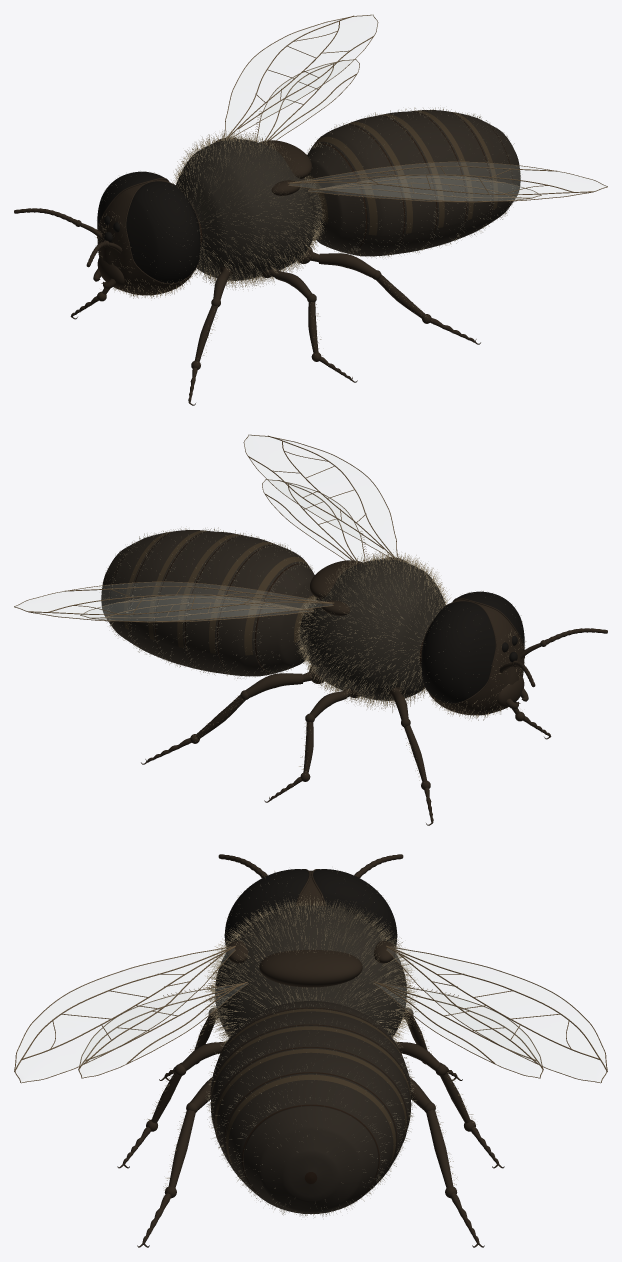
Rendered from bee-fine-cerana-drone.glb.
The picture shows the model from 3 angles, top to bottom: view 1: azimuth 30°, elevation 25°; view 2: azimuth 150°, elevation 25°; view 3: azimuth 270°, elevation 25°; orthographic projection. The views are drawn at different scales.
Parts seen in each view (by area): view 1: Thorax | continuous mesosoma.001, Forewing_1_membrane.001, Forewing_-1_membrane.001, Compound_eye_-1.001, Thoracic dense coat.001, Abdomen | tergite 2.001, Abdomen | tergite 3.001, Abdomen | tergite 4.001, Abdomen | tergite 1.001, Abdomen | tergite 5.001, Head | sculpted capsule.001, Abdomen | tergite 6.001 (+10 smaller); view 2: Thorax | continuous mesosoma.001, Forewing_-1_membrane.001, Forewing_1_membrane.001, Compound_eye_1.001, Thoracic dense coat.001, Abdomen | tergite 2.001, Abdomen | tergite 3.001, Abdomen | tergite 4.001, Abdomen | tergite 1.001, Abdomen | tergite 5.001, Head | sculpted capsule.001, Abdomen | tergite 6.001 (+10 smaller); view 3: Thorax | continuous mesosoma.001, Forewing_-1_membrane.001, Forewing_1_membrane.001, Abdomen | tergite 7.001, Abdomen | tergite 6.001, Thoracic dense coat.001, Abdomen | tergite 5.001, Abdomen | tergite 4.001, Abdomen | tergite 3.001, Scutellum.001, Compound_eye_1.001, Compound_eye_-1.001 (+9 smaller).
Part boxes in pixels (<box>): Thorax | continuous mesosoma.001: <box>176,139,322,280</box>; Forewing_1_membrane.001: <box>226,15,376,133</box>; Forewing_-1_membrane.001: <box>290,162,606,200</box>; Compound_eye_-1.001: <box>126,181,200,283</box>; Thoracic dense coat.001: <box>171,130,326,289</box>; Abdomen | tergite 2.001: <box>311,124,405,253</box>; Abdomen | tergite 3.001: <box>344,115,437,254</box>; Abdomen | tergite 4.001: <box>378,111,467,249</box>; Abdomen | tergite 1.001: <box>306,143,367,252</box>; Abdomen | tergite 5.001: <box>412,110,492,239</box>; Head | sculpted capsule.001: <box>97,179,192,295</box>; Abdomen | tergite 6.001: <box>449,111,513,226</box>; Thorax | continuous mesosoma.001: <box>299,559,445,700</box>; Forewing_-1_membrane.001: <box>245,435,395,554</box>; Forewing_1_membrane.001: <box>15,582,331,620</box>; Compound_eye_1.001: <box>421,601,495,703</box>; Thoracic dense coat.001: <box>295,551,450,712</box>; Abdomen | tergite 2.001: <box>216,544,310,673</box>; Abdomen | tergite 3.001: <box>184,535,277,674</box>; Abdomen | tergite 4.001: <box>154,531,243,669</box>; Abdomen | tergite 1.001: <box>254,563,316,672</box>; Abdomen | tergite 5.001: <box>129,530,209,659</box>; Head | sculpted capsule.001: <box>429,599,524,715</box>; Abdomen | tergite 6.001: <box>108,531,173,646</box>; Thorax | continuous mesosoma.001: <box>215,905,406,1037</box>; Forewing_-1_membrane.001: <box>16,947,234,1081</box>; Forewing_1_membrane.001: <box>387,947,605,1081</box>; Abdomen | tergite 7.001: <box>243,1105,378,1199</box>; Abdomen | tergite 6.001: <box>225,1073,396,1205</box>; Thoracic dense coat.001: <box>203,893,420,1044</box>; Abdomen | tergite 5.001: <box>214,1047,407,1165</box>; Abdomen | tergite 4.001: <box>210,1025,411,1137</box>; Abdomen | tergite 3.001: <box>210,1008,411,1099</box>; Scutellum.001: <box>259,950,362,987</box>; Compound_eye_1.001: <box>313,869,397,948</box>; Compound_eye_-1.001: <box>224,869,308,948</box>.
Bounding box in the file's own units: 0.013 × 0.00533 × 0.0117.
